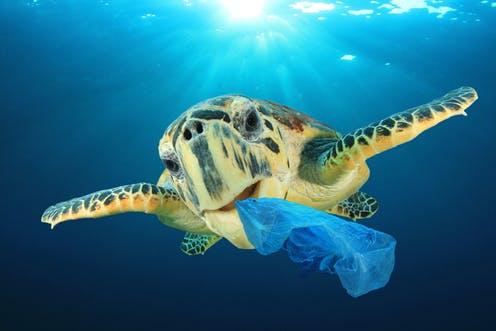fish: (29, 69, 482, 259)
litter: (217, 191, 410, 295)
